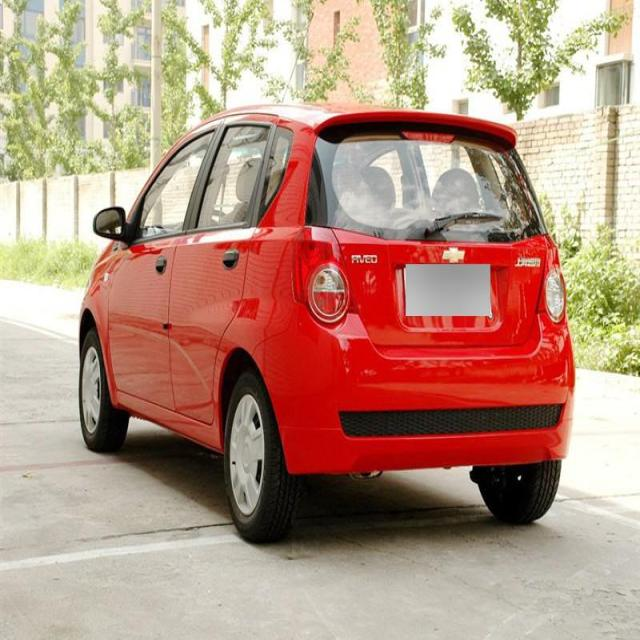back_glass: (298, 120, 550, 246)
back_left_side_light: (290, 220, 360, 334)
back_right_side_light: (536, 231, 569, 331)
door: (172, 115, 277, 414)
front_left_side_door: (106, 110, 222, 410)
front_left_side_mirror: (92, 205, 132, 245)
rear_bumper: (248, 298, 576, 477)
wheel: (224, 369, 301, 542), (79, 328, 130, 451), (469, 460, 562, 512)
